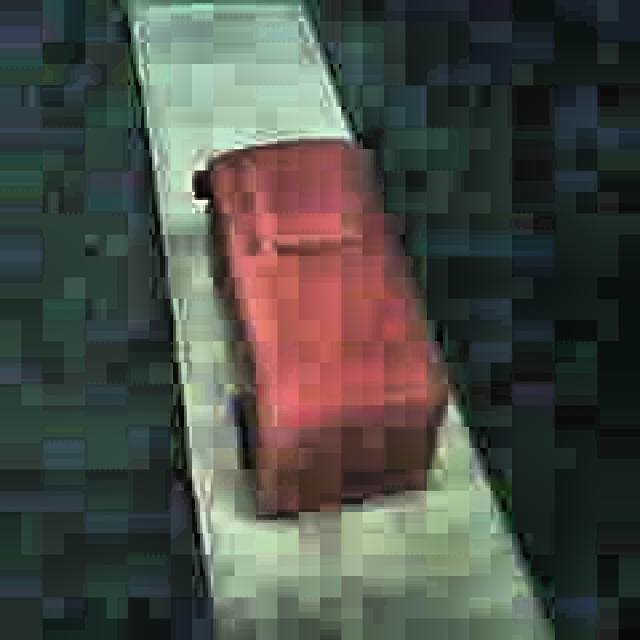bus: (192, 134, 452, 527)
